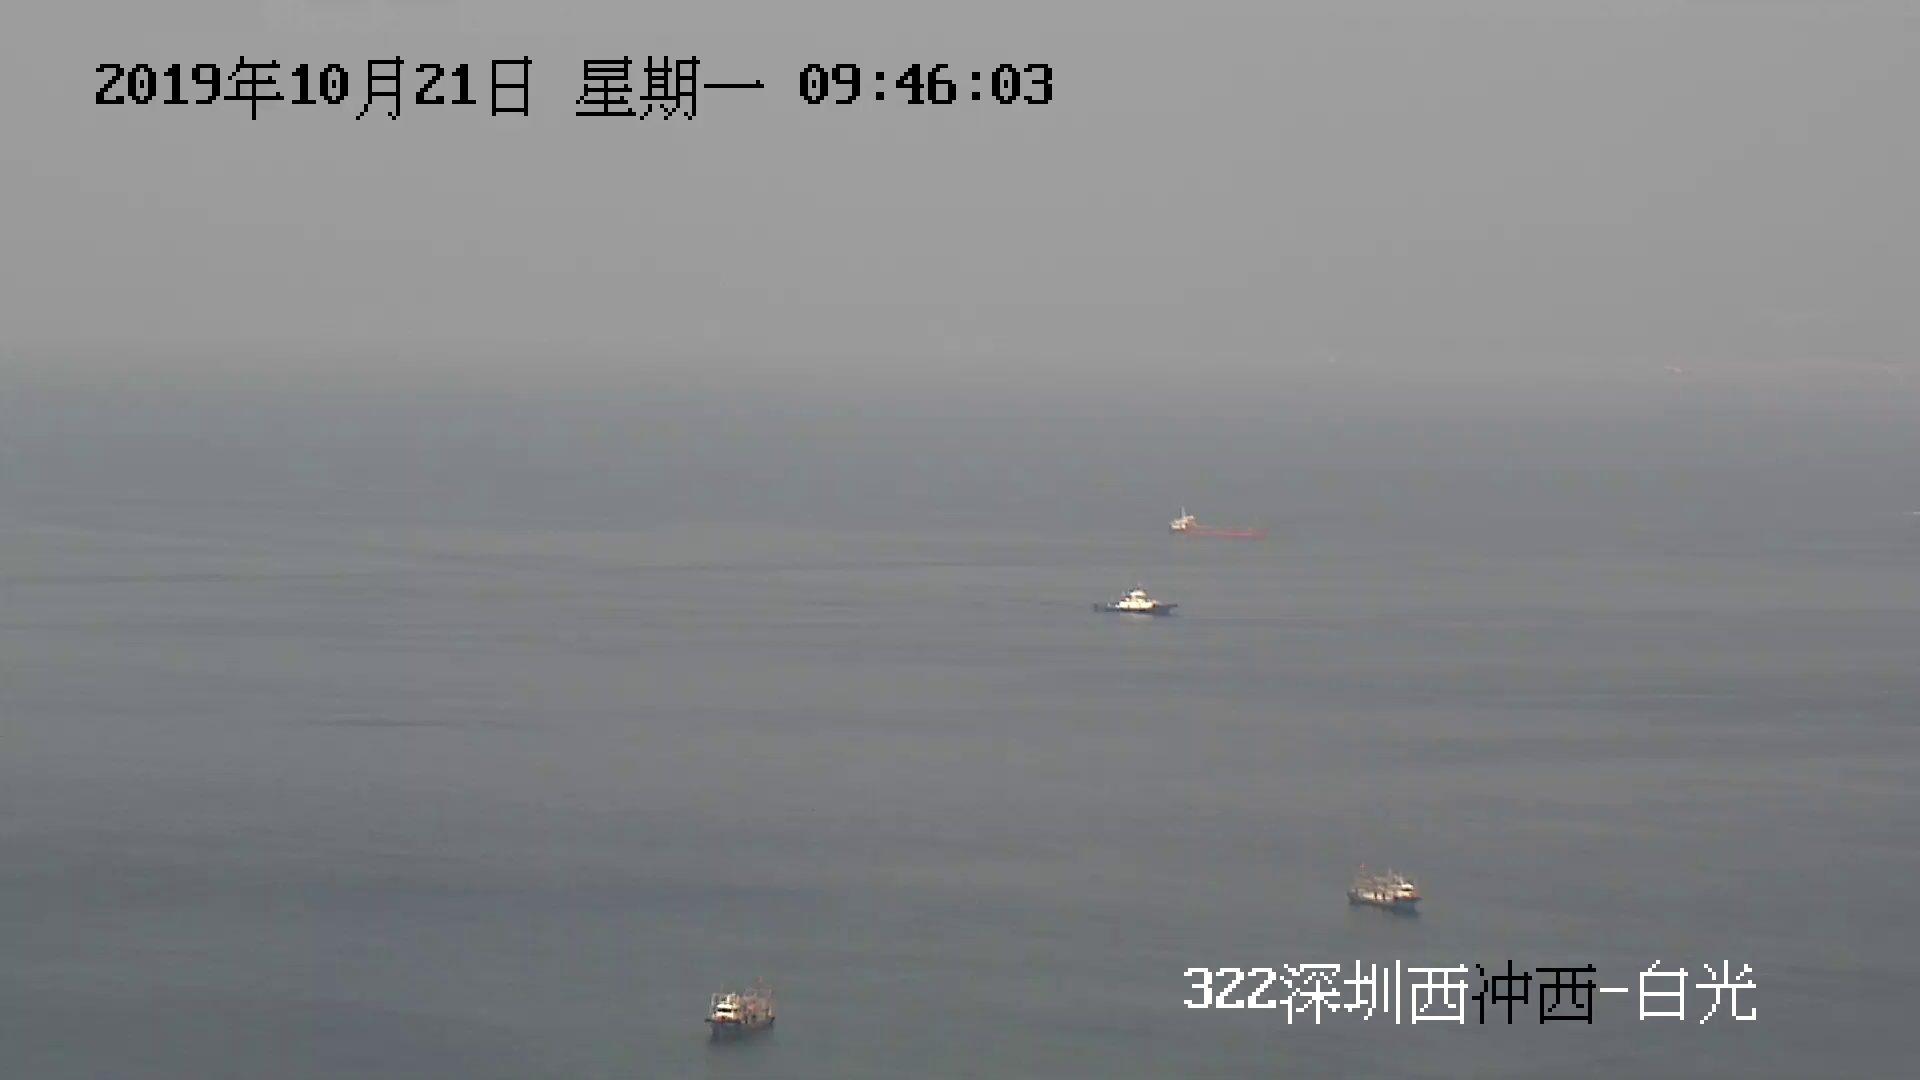ship: (705, 985, 778, 1042), (1166, 506, 1271, 542), (1345, 865, 1422, 913), (1092, 589, 1178, 616)
